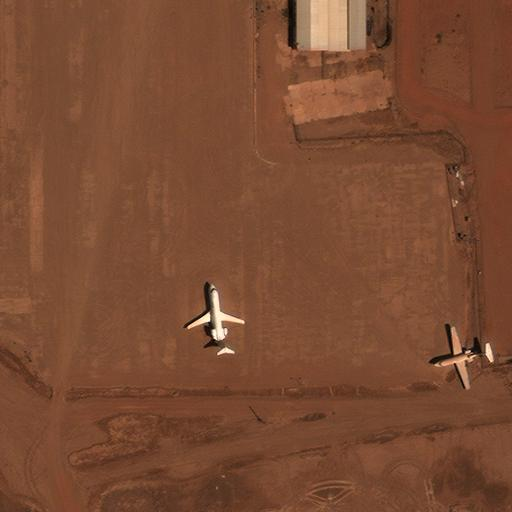Medium Civil Transport: (187, 282, 245, 353), (433, 327, 492, 390)
